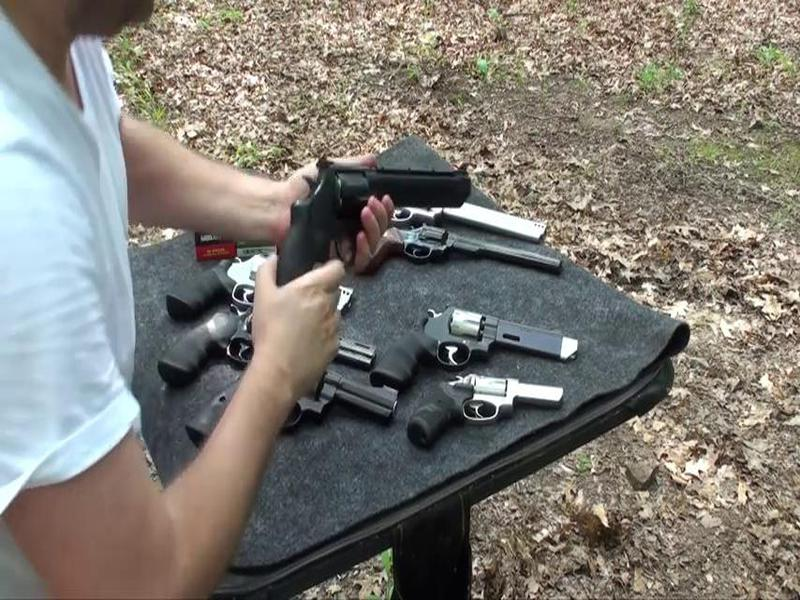Revolver: (282, 148, 475, 267)
